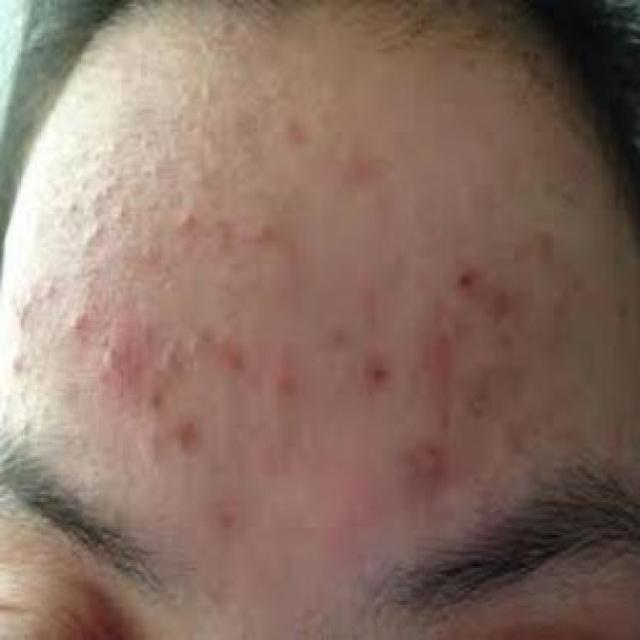blackheads: (357, 352, 406, 401), (442, 249, 488, 300)
papules: (151, 333, 200, 389), (94, 333, 131, 395), (56, 300, 92, 346)
pustules: (383, 436, 454, 504)
